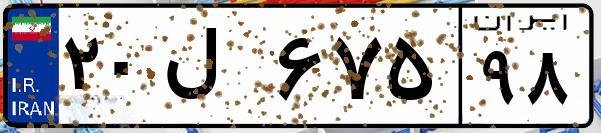0: (110, 28, 158, 98)
2: (57, 26, 110, 100)
5: (385, 28, 445, 110)
6: (270, 28, 330, 110)
7: (330, 28, 385, 110)
8: (525, 38, 570, 115)
9: (475, 38, 525, 113)
ل: (158, 20, 270, 120)
